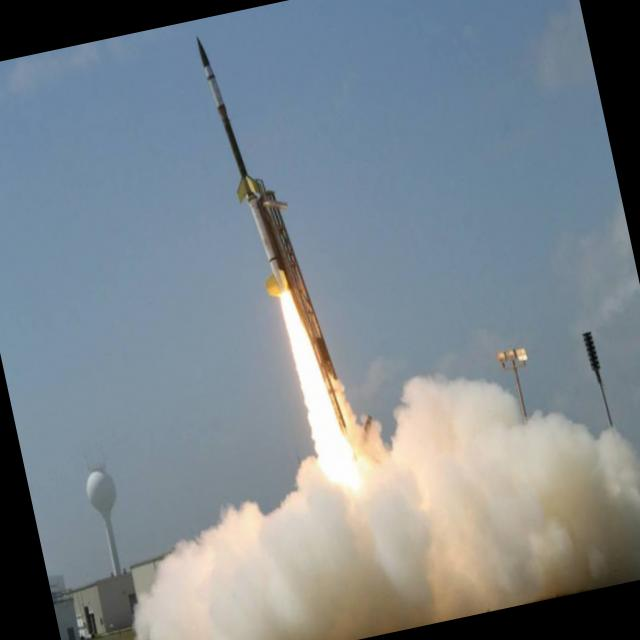rocket: (185, 15, 362, 486)
